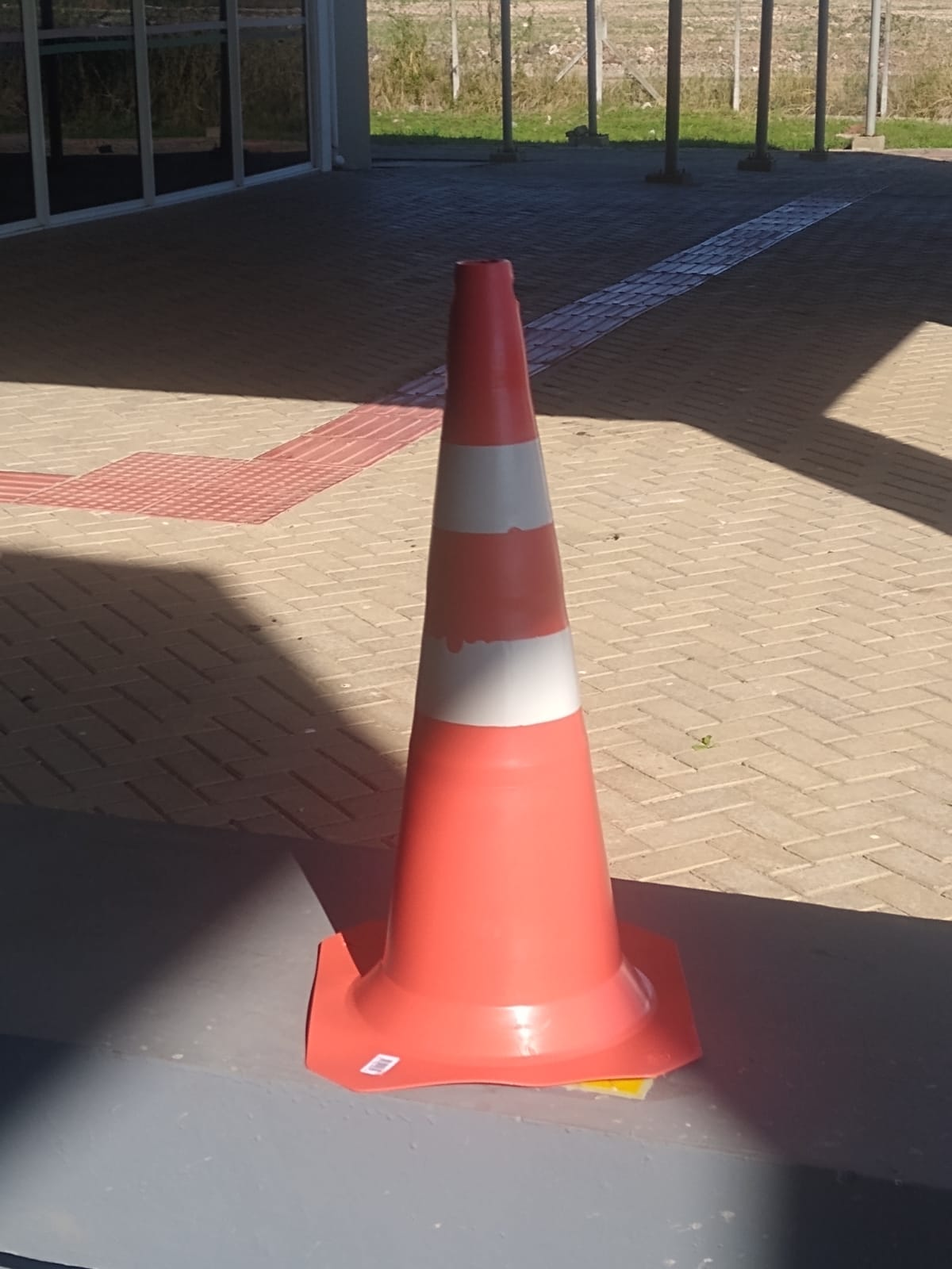traffic_cone: (302, 256, 704, 1097)
